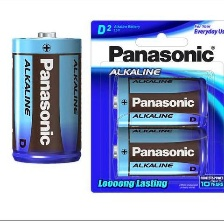battery: (5, 29, 86, 168), (109, 73, 209, 128), (111, 124, 210, 177)
